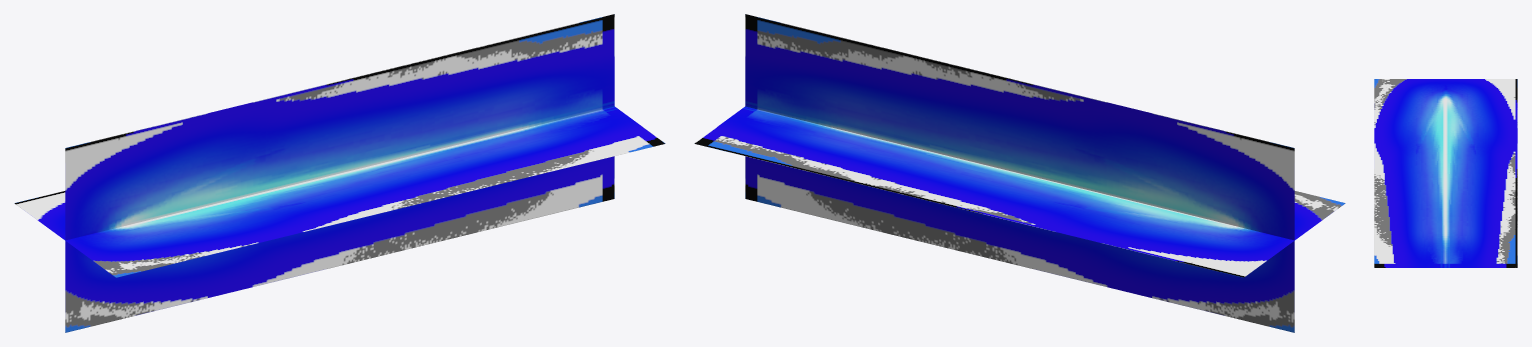
The model's file is qiangguang_moxing.FBX.
The picture shows the model from 3 angles, left to right: view 1: azimuth 30°, elevation 25°; view 2: azimuth 150°, elevation 25°; view 3: azimuth 270°, elevation 25°; orthographic projection. The views are drawn at different scales.
Visible parts, largest first — view 1: qiangguang_moxing; view 2: qiangguang_moxing; view 3: qiangguang_moxing.
Part boxes in pixels (left/top/right/bottom): qiangguang_moxing: left=14, top=14, right=665, bottom=332; qiangguang_moxing: left=694, top=14, right=1345, bottom=332; qiangguang_moxing: left=1374, top=79, right=1517, bottom=267.
Size of the model in its own units: 280 by 90 by 90.
